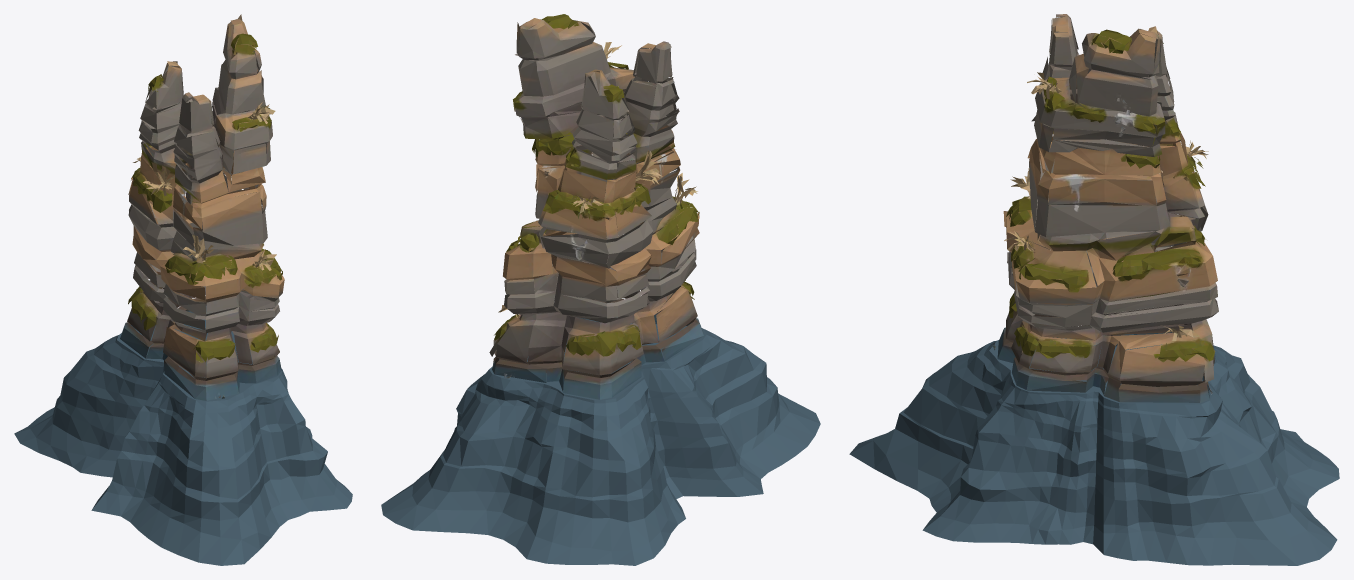
The model's file is spire_b.glb.
The picture shows the model from 3 angles, left to right: view 1: azimuth 30°, elevation 25°; view 2: azimuth 150°, elevation 25°; view 3: azimuth 270°, elevation 25°; orthographic projection. The views are drawn at different scales.
Parts seen in each view (by area): view 1: lod0; view 2: lod0; view 3: lod0.
Boxes of the visible parts, bbox=[...] form: lod0: bbox=[14, 14, 352, 565]; lod0: bbox=[381, 14, 820, 565]; lod0: bbox=[849, 14, 1339, 565].
Size of what is drawn, in the model's own units: 2.63 by 4.14 by 3.74.
Materials: 1 (1 with a texture image).
